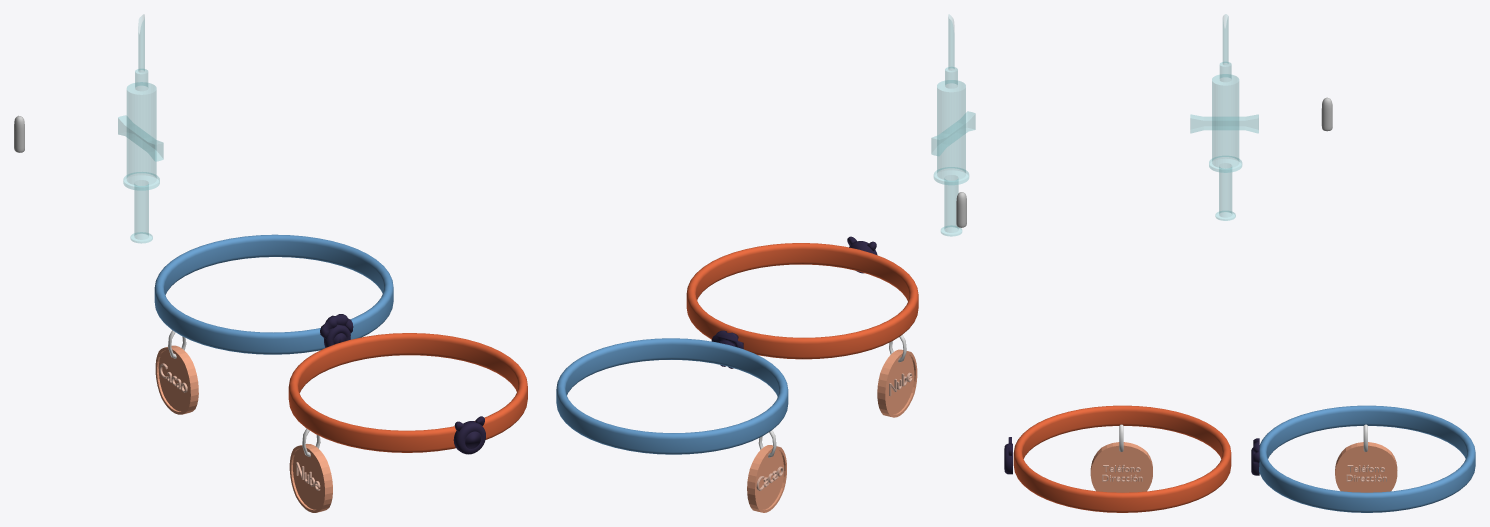
File: rastreo.glb
The picture shows the model from 3 angles, left to right: view 1: azimuth 30°, elevation 25°; view 2: azimuth 150°, elevation 25°; view 3: azimuth 270°, elevation 25°; orthographic projection. The views are drawn at different scales.
Parts seen in each view (by area): view 1: collar perro, collar gato, jeringa, placa cacao, placa nube, rastreador gato, rastreador perro; view 2: collar perro, collar gato, jeringa, placa nube, placa cacao; view 3: collar gato, collar perro, jeringa, placa cacao, placa nube.
Part boxes in pixels (<box>): collar perro: <box>154,234,393,354</box>; collar gato: <box>288,333,527,452</box>; jeringa: <box>118,14,163,243</box>; placa cacao: <box>155,330,198,414</box>; placa nube: <box>289,428,332,512</box>; rastreador gato: <box>453,416,485,454</box>; rastreador perro: <box>320,314,353,347</box>; collar perro: <box>556,338,788,454</box>; collar gato: <box>686,243,918,359</box>; jeringa: <box>931,14,975,236</box>; placa nube: <box>877,335,917,417</box>; placa cacao: <box>747,430,786,512</box>; collar gato: <box>1013,405,1231,512</box>; collar perro: <box>1259,405,1475,512</box>; jeringa: <box>1190,14,1258,220</box>; placa cacao: <box>1335,424,1397,492</box>; placa nube: <box>1090,424,1152,492</box>.
Bounding box in the file's own units: 1.8 × 2.15 × 2.1.
